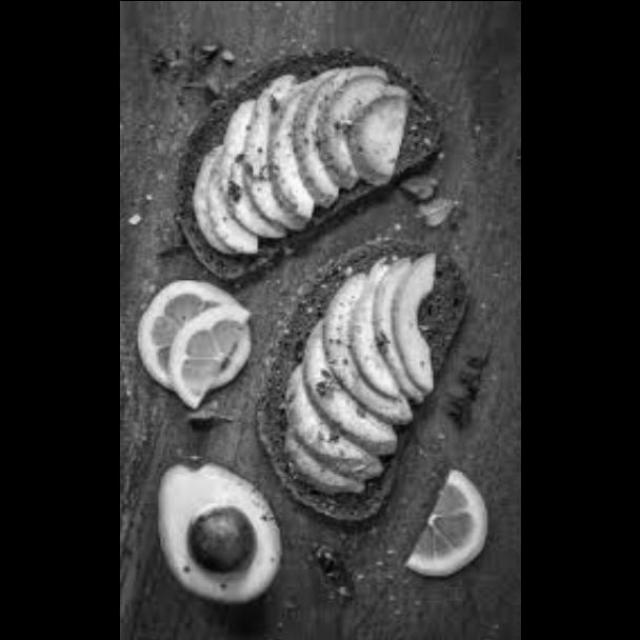avocado: (170, 65, 428, 255), (277, 257, 447, 498), (153, 446, 289, 606)
